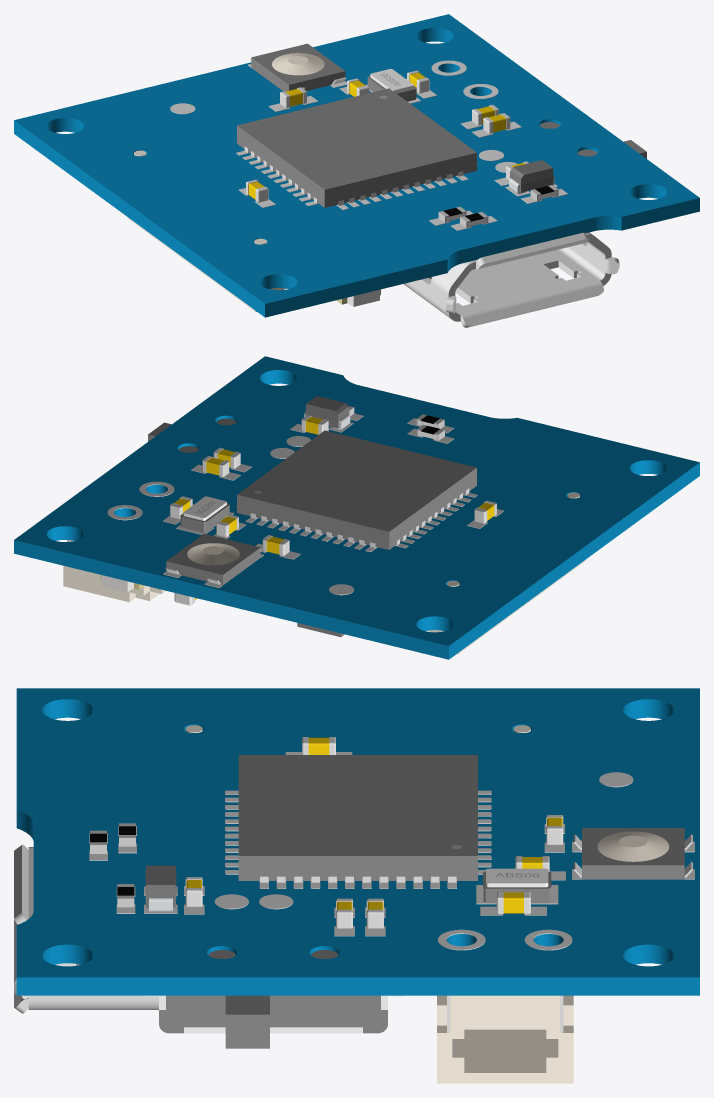
The model's file is TinyZero.glb.
3 views of the same model, one above another, from view 1: azimuth 30°, elevation 25°; view 2: azimuth 150°, elevation 25°; view 3: azimuth 270°, elevation 25° (orthographic). The views are drawn at different scales.
Visible parts, largest first — view 1: Compound (Meshed).001; view 2: Compound (Meshed).001; view 3: Compound (Meshed).001.
Boxes of the visible parts, x1=… form: Compound (Meshed).001: x1=14, y1=14, x2=699, y2=327; Compound (Meshed).001: x1=14, y1=356, x2=699, y2=659; Compound (Meshed).001: x1=14, y1=688, x2=699, y2=1083.
Bounding box in the file's own units: 21.1 × 4.38 × 20.07.
